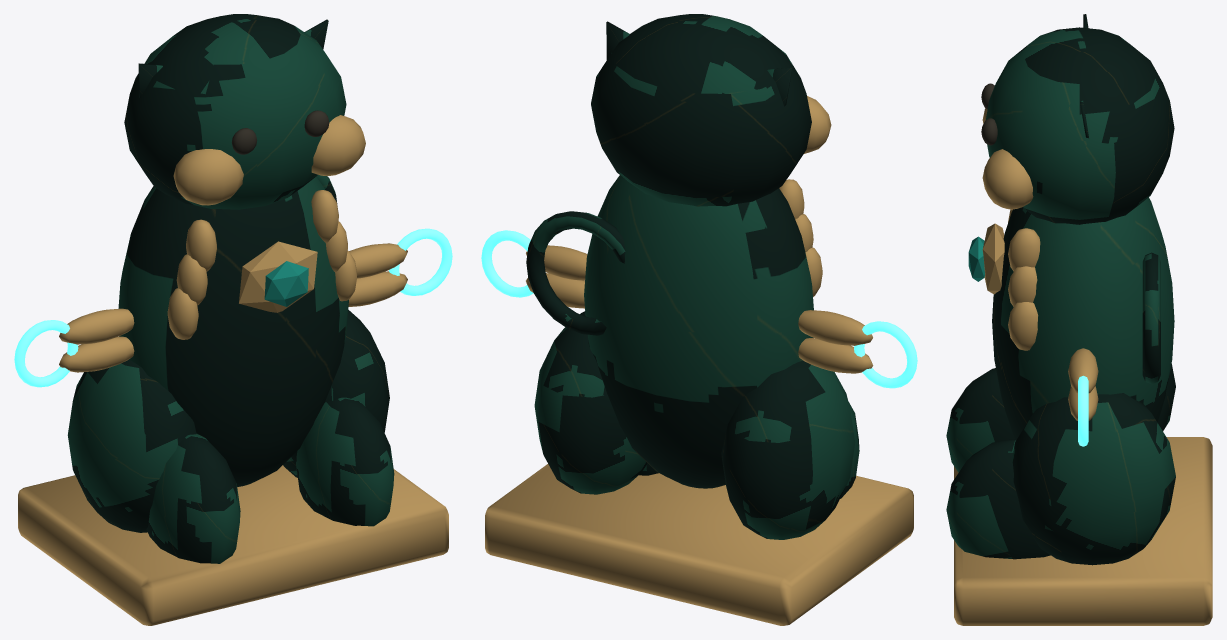
Rendered from guardian_statue_pattern_jade.fbx.
3 renders of one model, left to right at view 1: azimuth 30°, elevation 25°; view 2: azimuth 150°, elevation 25°; view 3: azimuth 270°, elevation 25°, orthographic.
Parts seen in each view (by area): view 1: Reviewed_guardian_statue_Body.005, TH10_Guardian_Handle.016, TH10_Guardian_Handle.017; view 2: Reviewed_guardian_statue_Body.005, TH10_Guardian_Handle.016, TH10_Guardian_Handle.017; view 3: Reviewed_guardian_statue_Body.005, TH10_Guardian_Handle.017.
Part boxes in pixels (x1,y1,x2,y2): Reviewed_guardian_statue_Body.005: (18, 14, 448, 625); TH10_Guardian_Handle.016: (14, 320, 78, 387); TH10_Guardian_Handle.017: (389, 228, 452, 295); Reviewed_guardian_statue_Body.005: (485, 14, 913, 625); TH10_Guardian_Handle.016: (854, 321, 917, 388); TH10_Guardian_Handle.017: (481, 230, 533, 297); Reviewed_guardian_statue_Body.005: (946, 14, 1212, 625); TH10_Guardian_Handle.017: (1078, 375, 1088, 446).
Size of the model in its own units: 0.654 by 0.75 by 0.35.
Materials: 5 (1 with a texture image).
